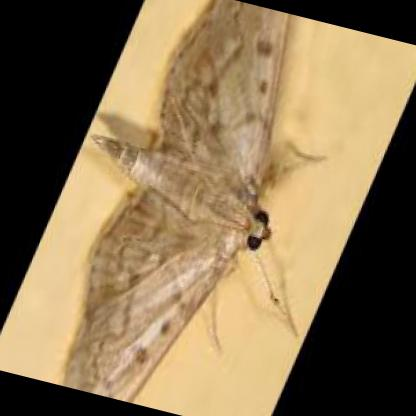Leaf Webber: (68, 3, 293, 402)
